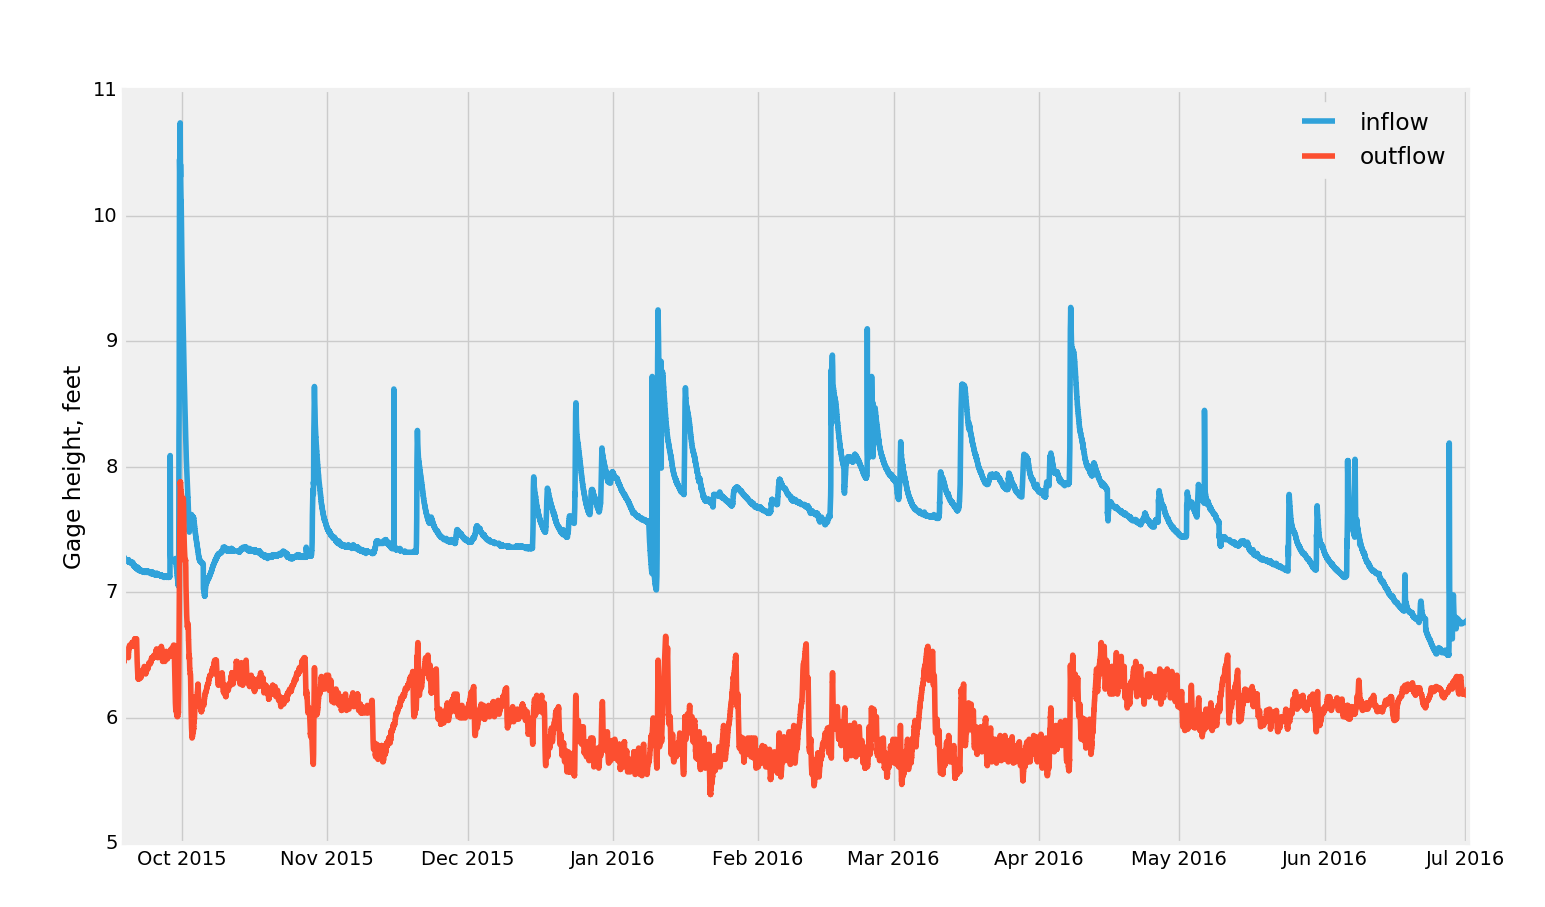

This screenshot's page, from the dashboard's own definition file:
{"tool":"tableau","page":{"name":"2015 Lines","canvas":[650,600],"ordinal":5},"visuals":[{"type":"worksheet","title":"2015 LinesRaw","mark":"Automatic","rows":["ResultValue"],"cols":["Datetime"],"box":[0,0,478,600]},{"type":"filter","title":"2015 LinesRaw","param":"[msaccess.41562.933590833331].[none:CharacteristicName:nk]","box":[478,0,168,53]},{"type":"text","box":[478,53,168,36]},{"type":"legend","title":"2015 LinesRaw","param":"[msaccess.41562.933590833331].[none:Calculation_4831016214107055:nk]","box":[478,89,168,308]}]}

Visuals, with their boxes on the page's 650x600 design canvas (x1, y1, x2, y2). These are canvas units, not pixel positions in the 1545x907 screenshot, which may show the page scaled, cropped or inside an application window:
"2015 LinesRaw" worksheet: pyautogui.locateOnScreen(0, 0, 478, 600)
"2015 LinesRaw" filter: pyautogui.locateOnScreen(478, 0, 646, 53)
text: pyautogui.locateOnScreen(478, 53, 646, 89)
"2015 LinesRaw" legend: pyautogui.locateOnScreen(478, 89, 646, 397)
